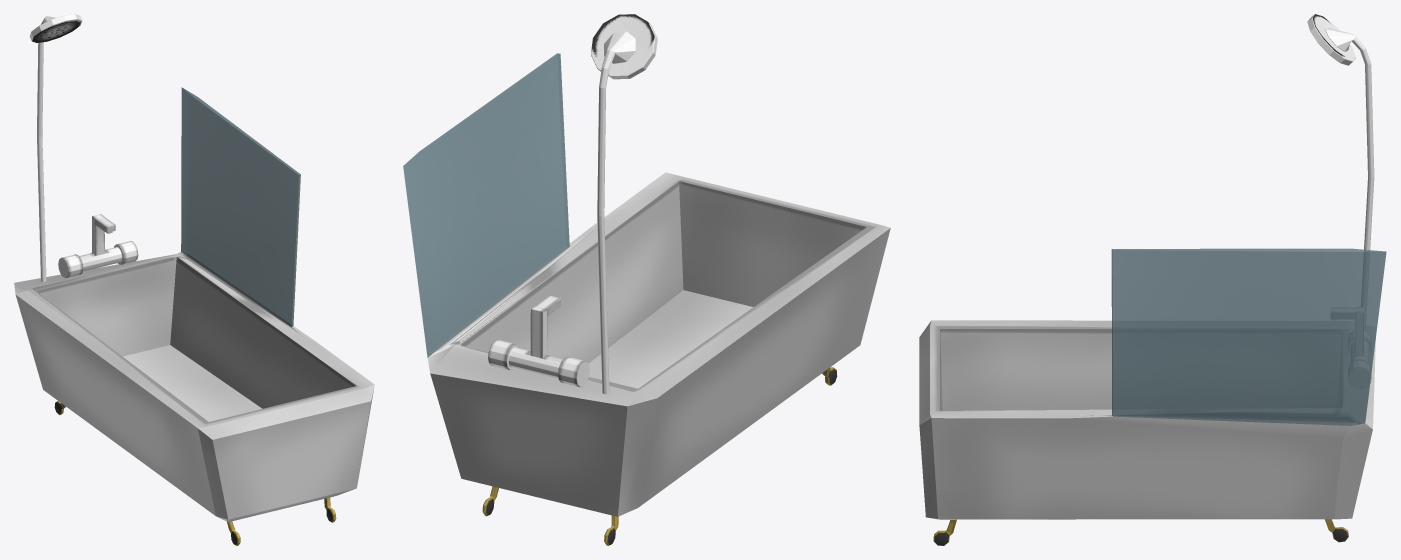
The model's file is Bathtub.fbx.
3 views of the same model, side by side, from view 1: azimuth 30°, elevation 25°; view 2: azimuth 150°, elevation 25°; view 3: azimuth 270°, elevation 25° (orthographic). The views are drawn at different scales.
Parts seen in each view (by area): view 1: ShowerTub; view 2: ShowerTub; view 3: ShowerTub.
Boxes of the visible parts, <box> form: ShowerTub: <box>14,14,374,545</box>; ShowerTub: <box>403,14,890,545</box>; ShowerTub: <box>919,14,1386,545</box>.
Size of the model in its own units: 7.81 by 16.59 by 14.96.
